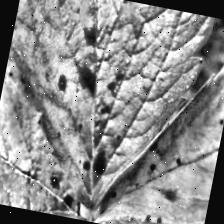Leaf Spot: (0, 0, 216, 224), (87, 33, 224, 224), (0, 46, 118, 221)
